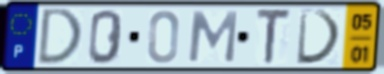0: (86, 8, 125, 67), (146, 9, 181, 66)
D: (35, 6, 85, 67), (295, 8, 344, 67)
M: (186, 9, 240, 65)
T: (255, 7, 293, 67)
